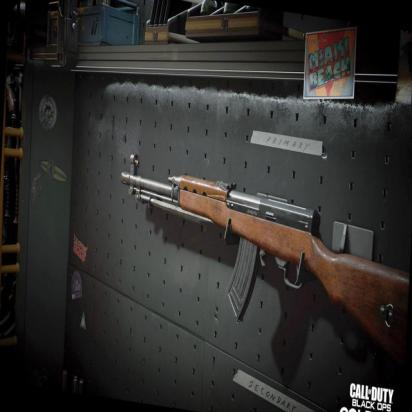Gun: (119, 150, 412, 360)
